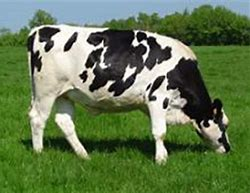waka: (13, 19, 236, 169)
